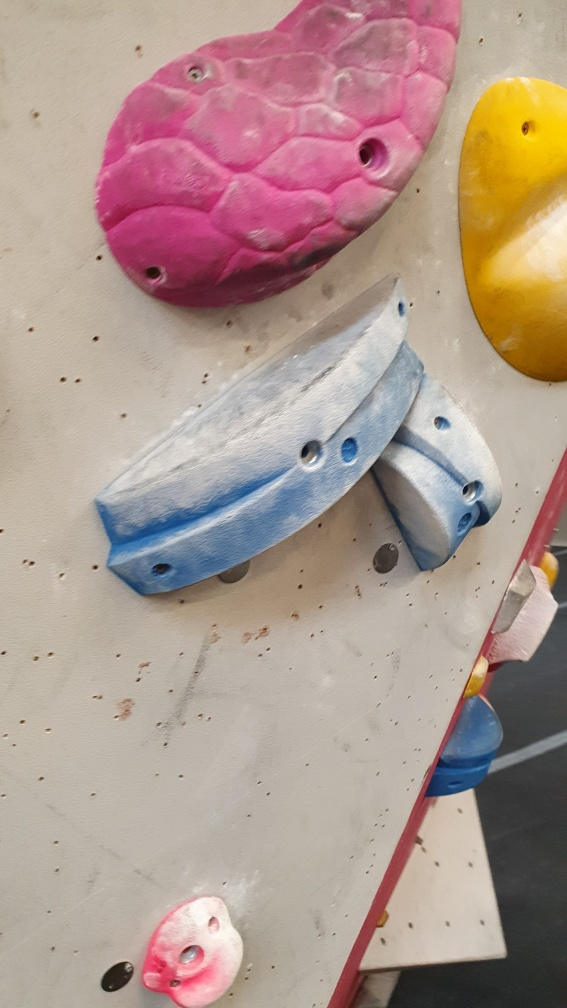Hand Start: (368, 538, 406, 576), (97, 958, 138, 993)
Jug: (144, 896, 245, 1007)
Pinch: (96, 270, 424, 599), (372, 365, 508, 577), (432, 693, 506, 796)
